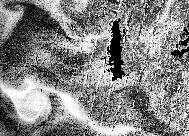CE: (16, 86, 50, 121)
